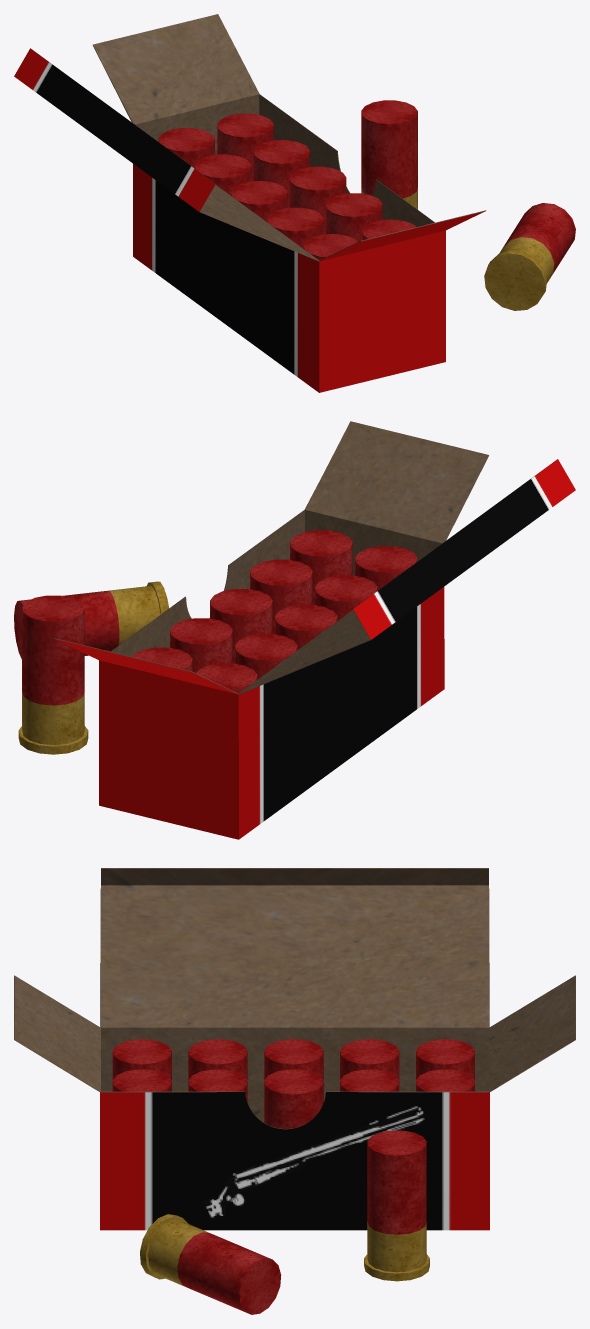
File: CaixaEscopeta.fbx
3 renders of one model, top to bottom at view 1: azimuth 30°, elevation 25°; view 2: azimuth 150°, elevation 25°; view 3: azimuth 270°, elevation 25°, orthographic. The views are drawn at different scales.
Visible parts, largest first — view 1: pCylinder46; view 2: pCylinder46; view 3: pCylinder46.
Boxes of the visible parts, box(x1,y1,x2,y2) form: pCylinder46: box(14, 14, 575, 392); pCylinder46: box(14, 421, 575, 839); pCylinder46: box(14, 868, 575, 1314).
Bounding box in the file's own units: 0.7041 × 0.3555 × 0.7397.
4 materials, 4 textured.
